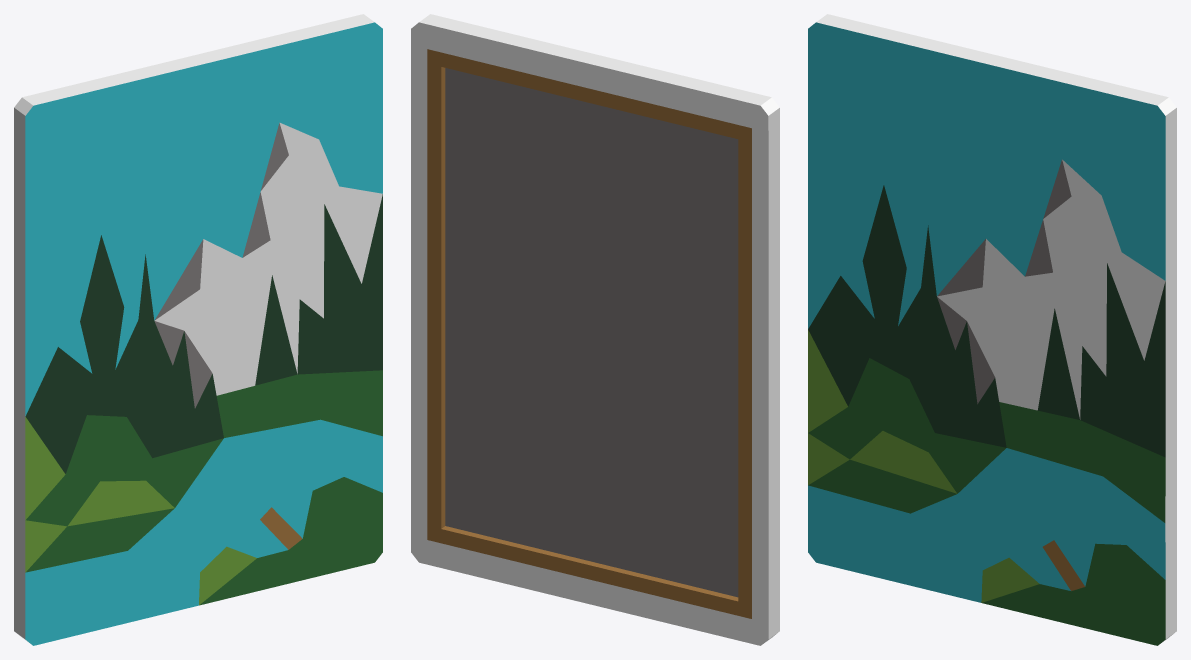
Rendered from furniture-picture-nature-mountains.glb.
The picture shows the model from 3 angles, left to right: view 1: azimuth 30°, elevation 25°; view 2: azimuth 150°, elevation 25°; view 3: azimuth 330°, elevation 25°; orthographic projection.
Parts seen in each view (by area): view 1: picture-nature-mountains; view 2: picture-nature-mountains; view 3: picture-nature-mountains.
Boxes of the visible parts, x1,y1,x2,y2 form: picture-nature-mountains: (14, 14, 382, 645); picture-nature-mountains: (411, 14, 779, 645); picture-nature-mountains: (808, 14, 1176, 645).
Size of the model in its own units: 0.9 by 1.3 by 0.05.
